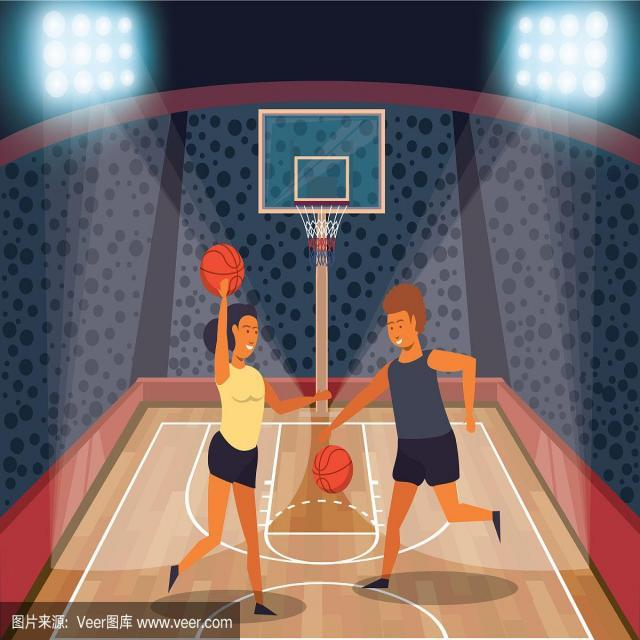rim: (202, 243, 246, 295), (317, 443, 352, 491)
